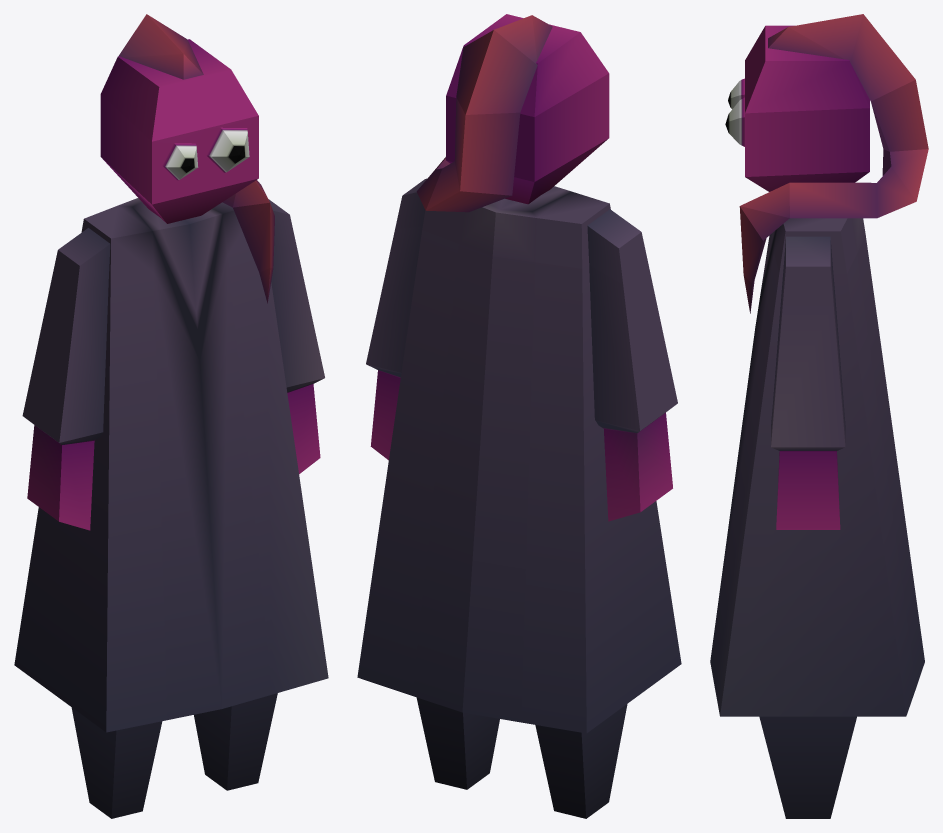
The model's file is citizen_2.obj.
3 views of the same model, side by side, from view 1: azimuth 30°, elevation 25°; view 2: azimuth 150°, elevation 25°; view 3: azimuth 270°, elevation 25° (orthographic). The views are drawn at different scales.
Parts seen in each view (by area): view 1: kid_body_F_L, adult_body_M_L_head.002, kid_body_Arm_Right, kid_body_Arm_Left, kid_body_Feet_Right, kid_body_Feet_Left; view 2: kid_body_F_L, adult_body_M_L_head.002, kid_body_Arm_Right, kid_body_Arm_Left, kid_body_Feet_Right, kid_body_Feet_Left; view 3: kid_body_F_L, adult_body_M_L_head.002, kid_body_Arm_Left, kid_body_Feet_Left.
Part boxes in pixels (<box>): kid_body_F_L: <box>14,198,328,732</box>; adult_body_M_L_head.002: <box>100,14,274,303</box>; kid_body_Arm_Right: <box>22,228,110,530</box>; kid_body_Arm_Left: <box>268,199,324,474</box>; kid_body_Feet_Right: <box>71,707,162,818</box>; kid_body_Feet_Left: <box>194,693,277,790</box>; kid_body_F_L: <box>357,186,681,733</box>; adult_body_M_L_head.002: <box>416,14,609,212</box>; kid_body_Arm_Right: <box>587,209,677,521</box>; kid_body_Arm_Left: <box>366,178,427,460</box>; kid_body_Feet_Right: <box>535,704,627,818</box>; kid_body_Feet_Left: <box>416,697,499,789</box>; kid_body_F_L: <box>710,218,924,716</box>; adult_body_M_L_head.002: <box>725,14,928,313</box>; kid_body_Arm_Left: <box>771,236,845,529</box>; kid_body_Feet_Left: <box>759,716,856,818</box>.
Bounding box in the file's own units: 3.17 × 8.65 × 2.23.
